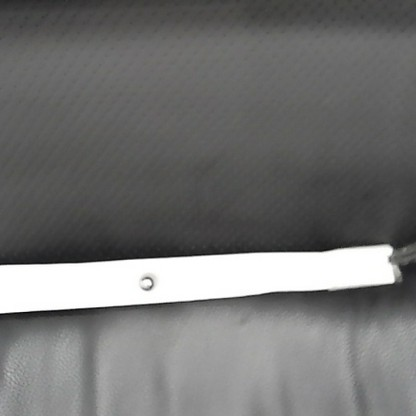ironball: (135, 270, 155, 293)
